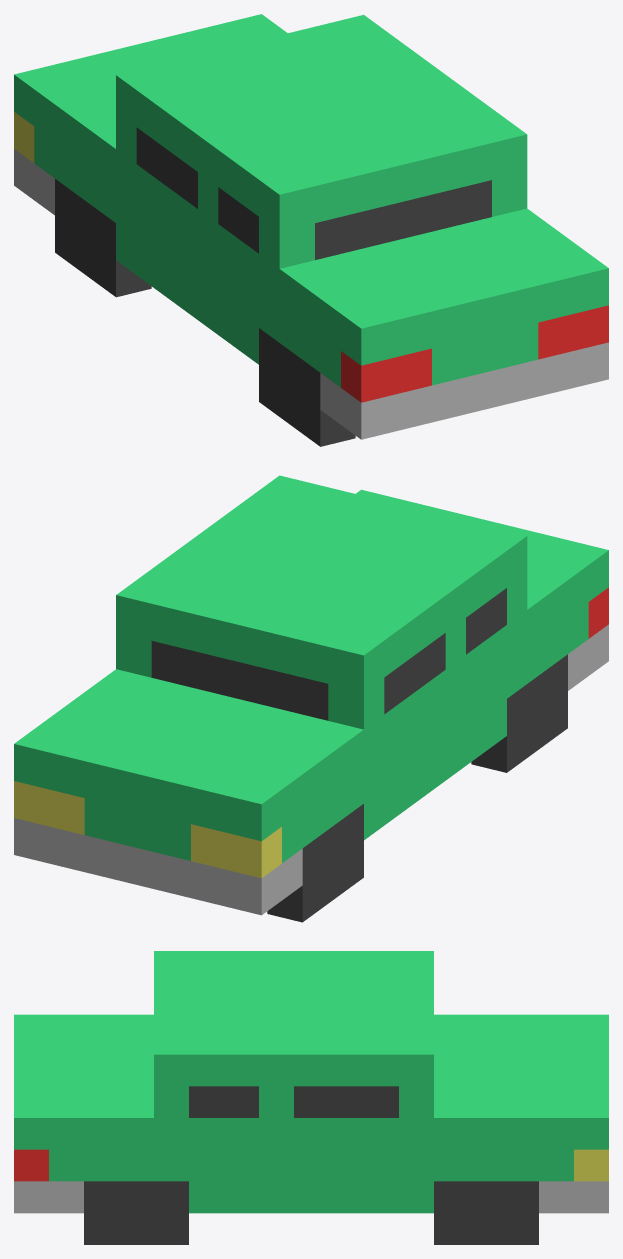
The model's file is cars-2-GreenCar.obj.
3 renders of one model, top to bottom at view 1: azimuth 30°, elevation 25°; view 2: azimuth 150°, elevation 25°; view 3: azimuth 270°, elevation 25°, orthographic. The views are drawn at different scales.
Visible parts, largest first — view 1: GreenCar; view 2: GreenCar; view 3: GreenCar.
Part boxes in pixels (x1,y1,x2,y2): GreenCar: (14, 14, 608, 446); GreenCar: (14, 475, 608, 922); GreenCar: (14, 951, 608, 1244).
Bounding box in the file's own units: 0.7 × 0.6 × 1.7.
1 material, 1 textured.
